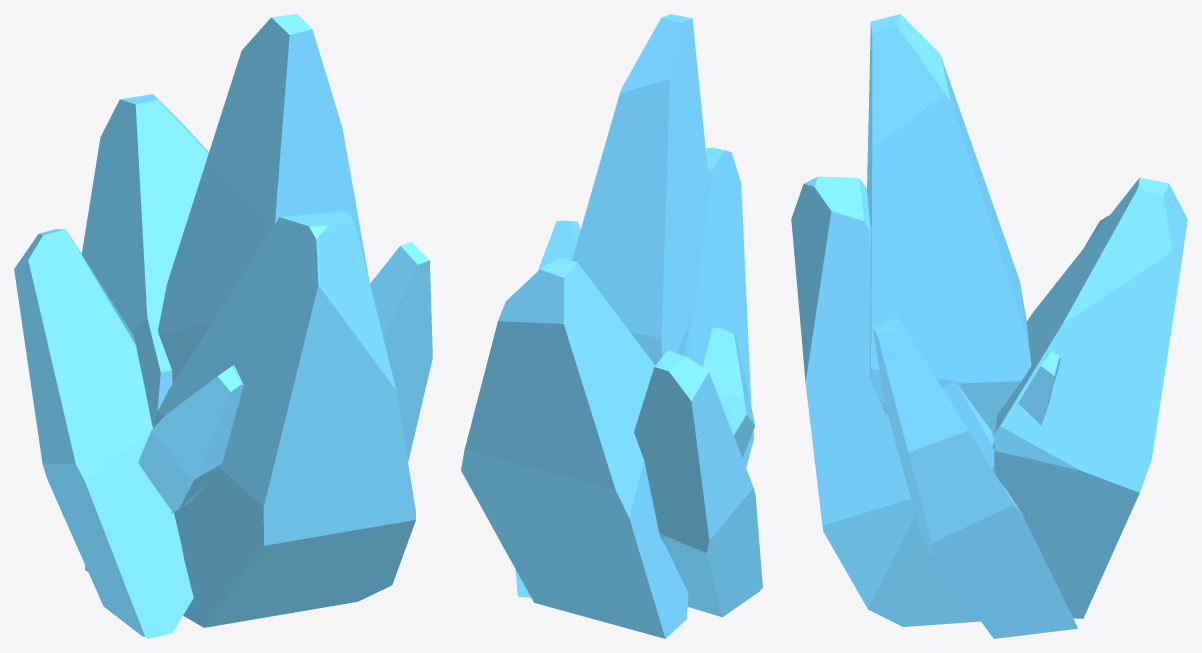
Rendered from Crystal(old).fbx.
The picture shows the model from 3 angles, left to right: view 1: azimuth 30°, elevation 25°; view 2: azimuth 150°, elevation 25°; view 3: azimuth 270°, elevation 25°; orthographic projection. The views are drawn at different scales.
Visible parts, largest first — view 1: Crystal; view 2: Crystal; view 3: Crystal.
Part boxes in pixels (<box>): Crystal: <box>14,14,432,638</box>; Crystal: <box>461,14,762,638</box>; Crystal: <box>791,14,1187,638</box>.
Size of the model in its own units: 148 by 281 by 177.
